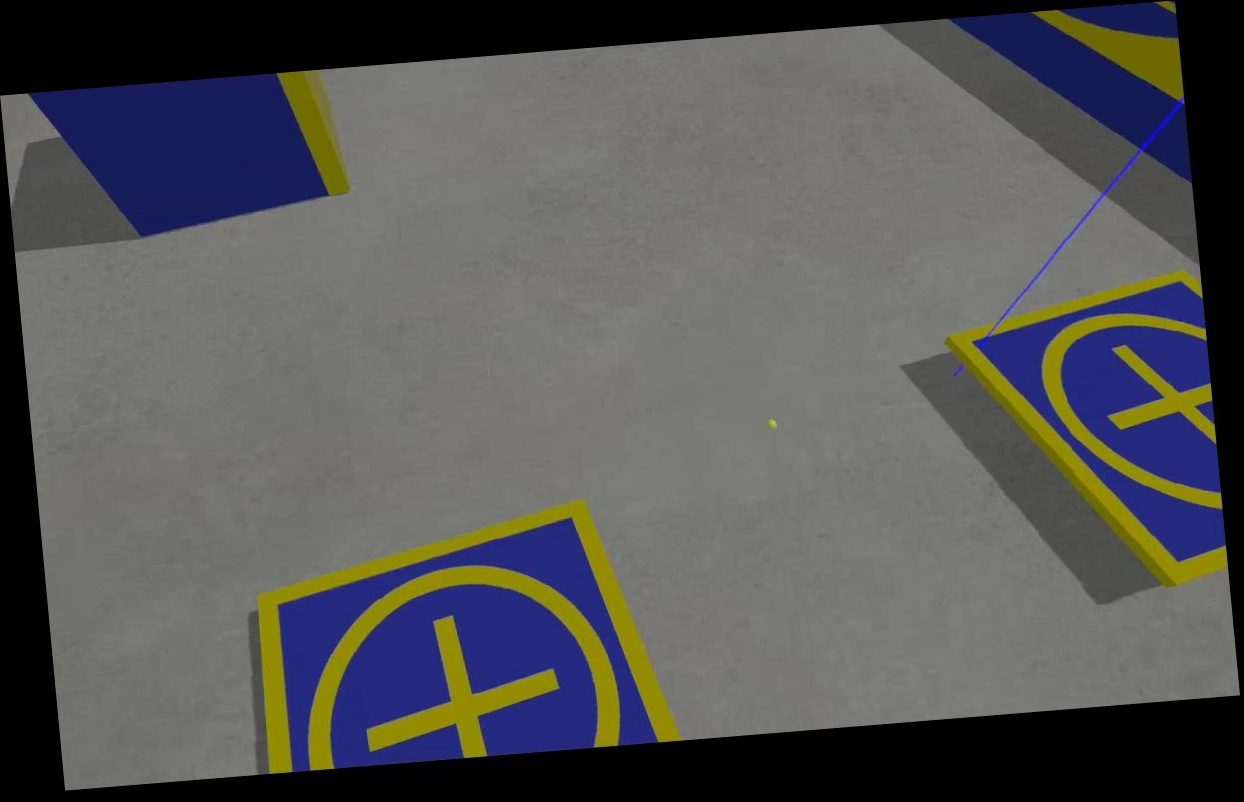large_base: (939, 0, 1192, 197)
small_base: (246, 492, 683, 776), (939, 265, 1232, 600)
